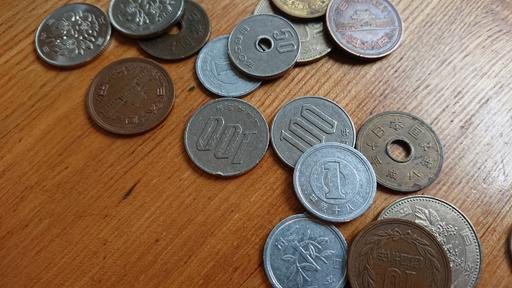100yen: (269, 97, 355, 176), (185, 99, 269, 176), (35, 3, 111, 68), (108, 3, 183, 37)
10yen: (348, 219, 451, 288), (87, 58, 174, 137), (325, 1, 404, 60)
1yen: (293, 142, 376, 223), (263, 214, 351, 287), (194, 33, 269, 99)
500yen: (376, 195, 482, 288)
50yen: (227, 14, 301, 80)
5yen: (356, 112, 443, 193)
